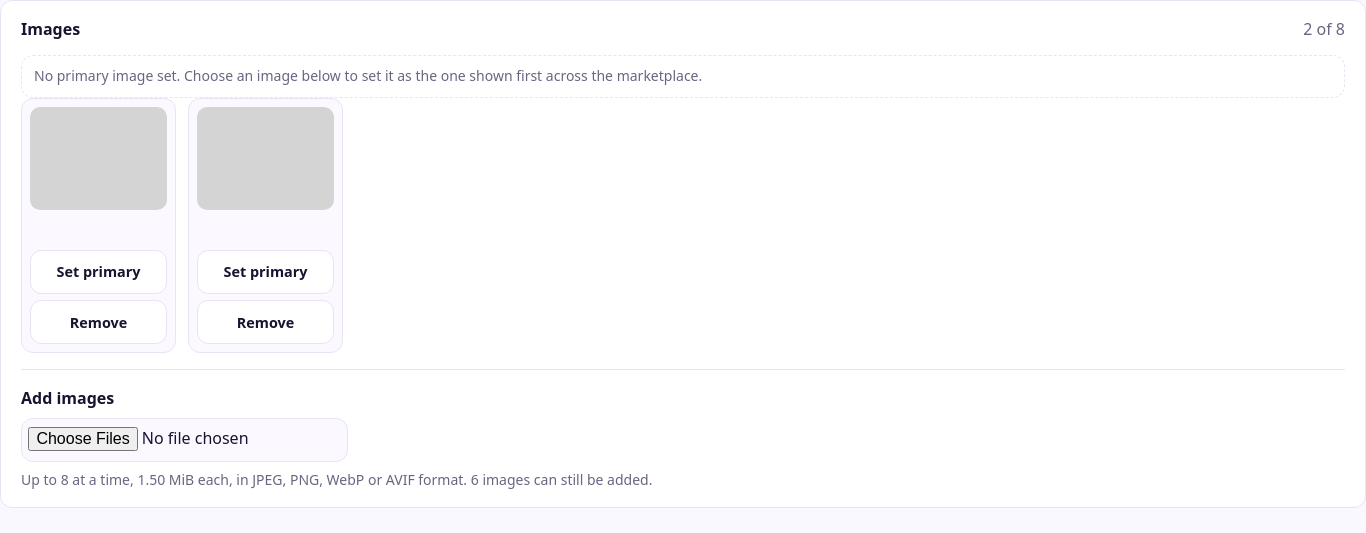
it: ProductImageManager › setting the primary image › shows the Primary badge on the image the server promoted
Click the button with aria-label "as the primary image" at (98,272), box left=30, top=250, right=167, bottom=294
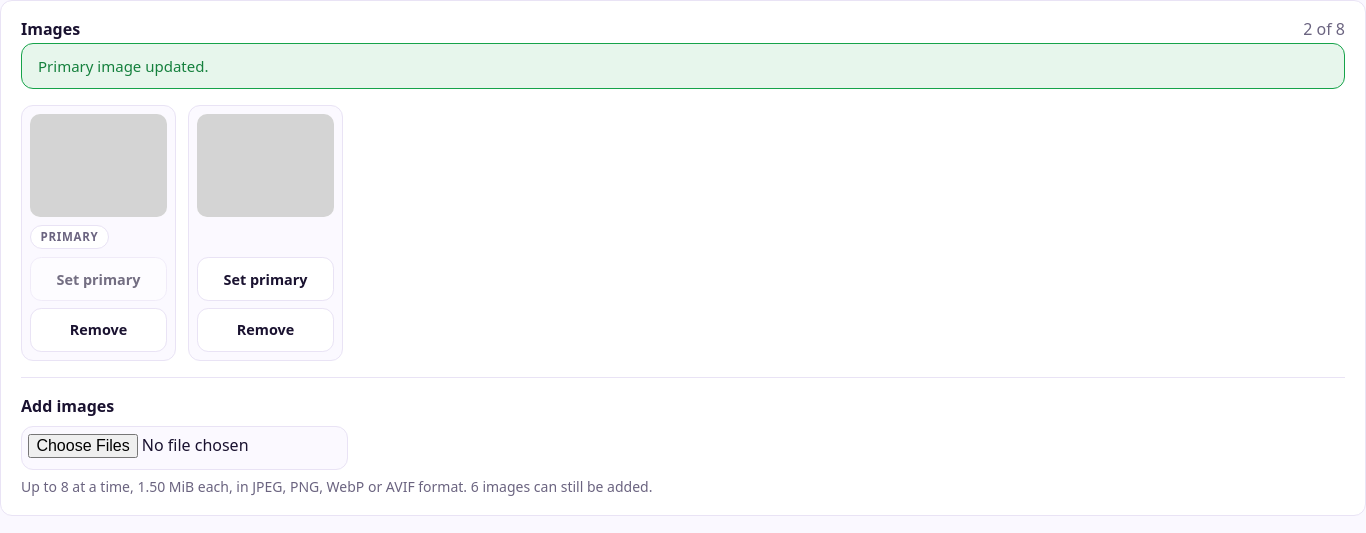
Now the text "Primary" is shown once, box left=30, top=225, right=109, bottom=249
